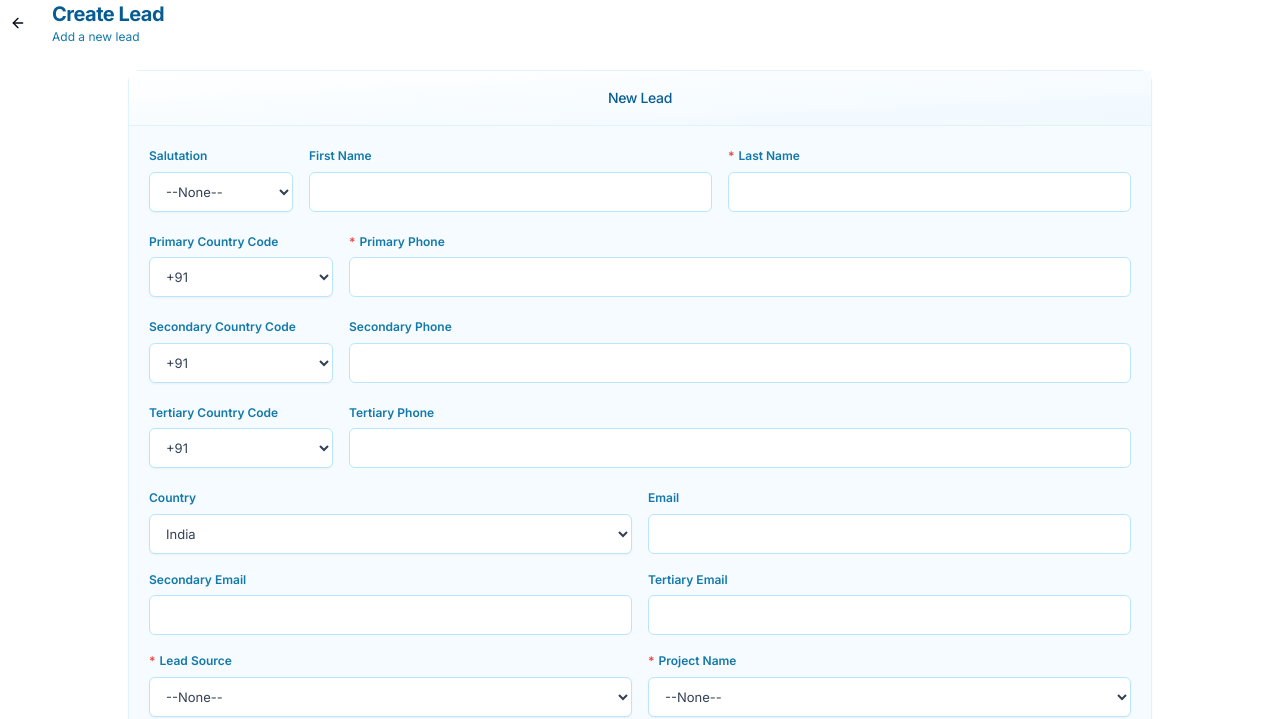
Test: Create Lead duplicate handling › does not choose arbitrarily when duplicate matches are ambiguous
Expected: the field labelled "*Primary Phone" is shown, x1=349 y1=257 x2=1131 y2=297
Step 1. Type "Customer" into the field labelled "*Last Name" → (930, 192), box x1=728 y1=172 x2=1131 y2=212
Step 2. Type "9876543210" into the field labelled "*Primary Phone" → (740, 277), box x1=349 y1=257 x2=1131 y2=297
Step 3. Select "Website" in the dropdown labelled "*Lead Source" → (390, 696), box x1=149 y1=676 x2=632 y2=716
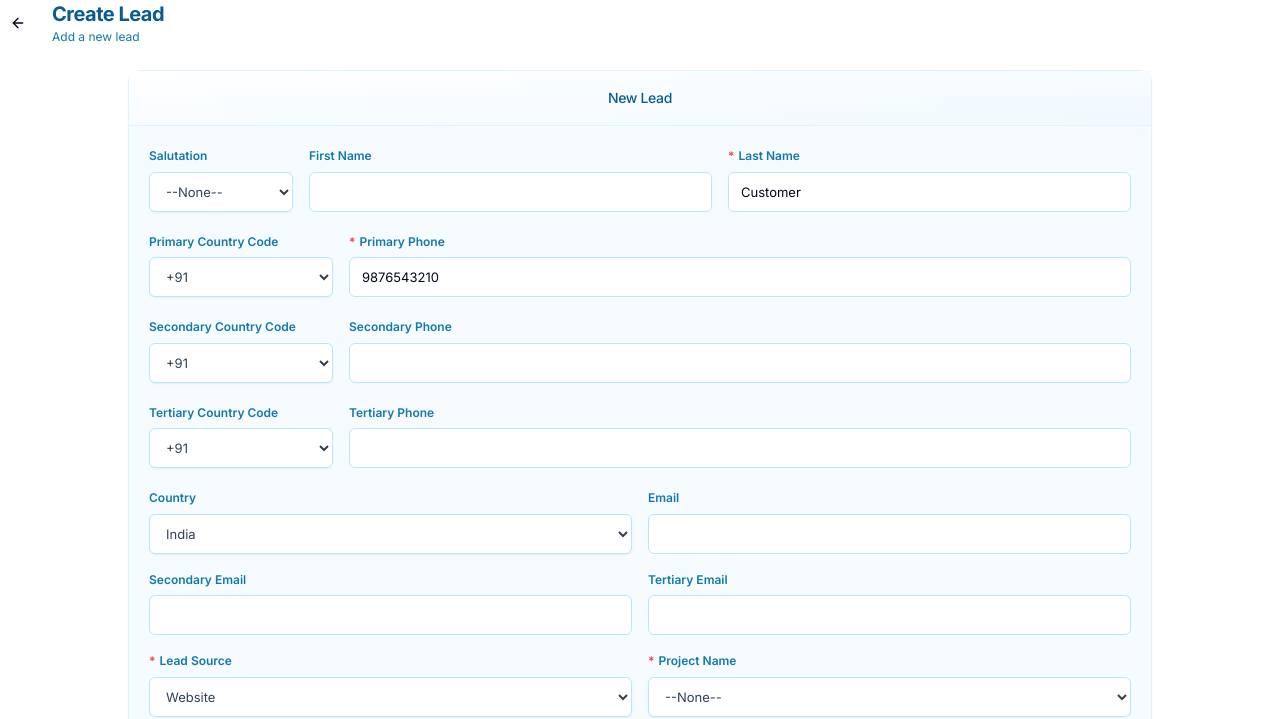
Step 4. Select "DCT Heights" in the dropdown labelled "*Project Name" → (890, 696), box x1=648 y1=676 x2=1131 y2=716
(page scrolled)
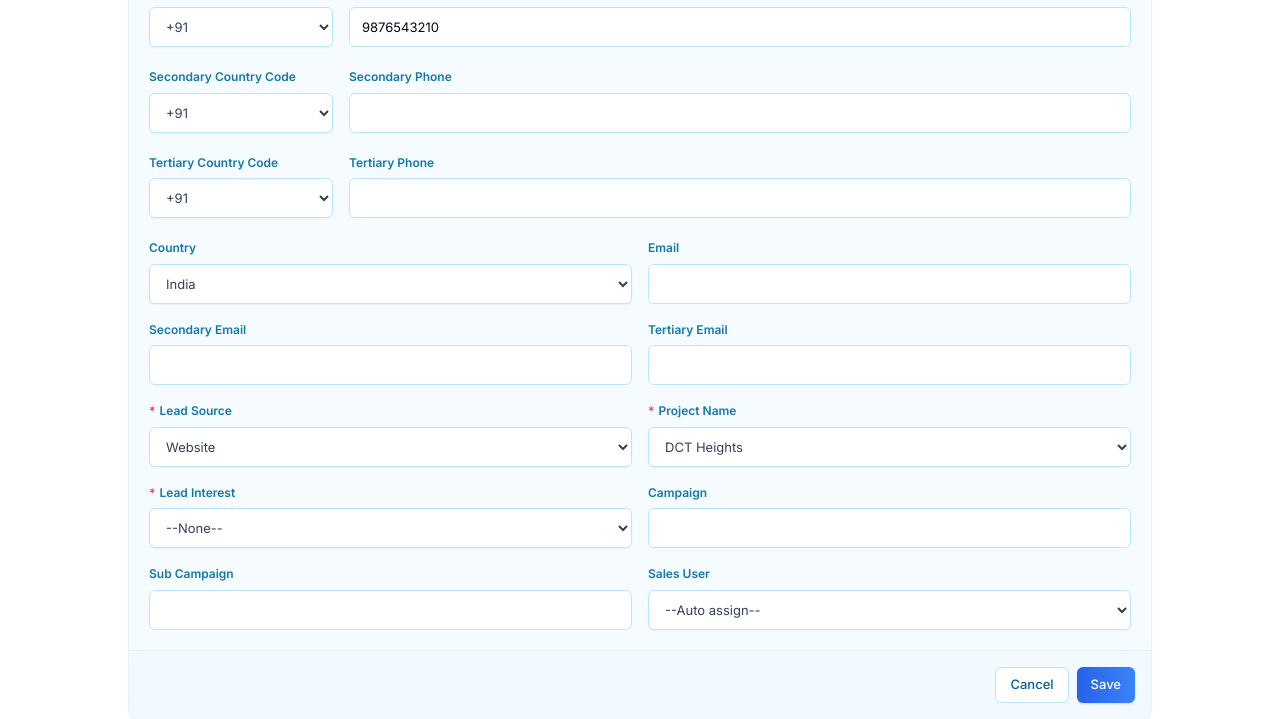
Step 5. Select "Prospect" in the dropdown labelled "*Lead Interest" → (390, 528), box x1=149 y1=508 x2=632 y2=548
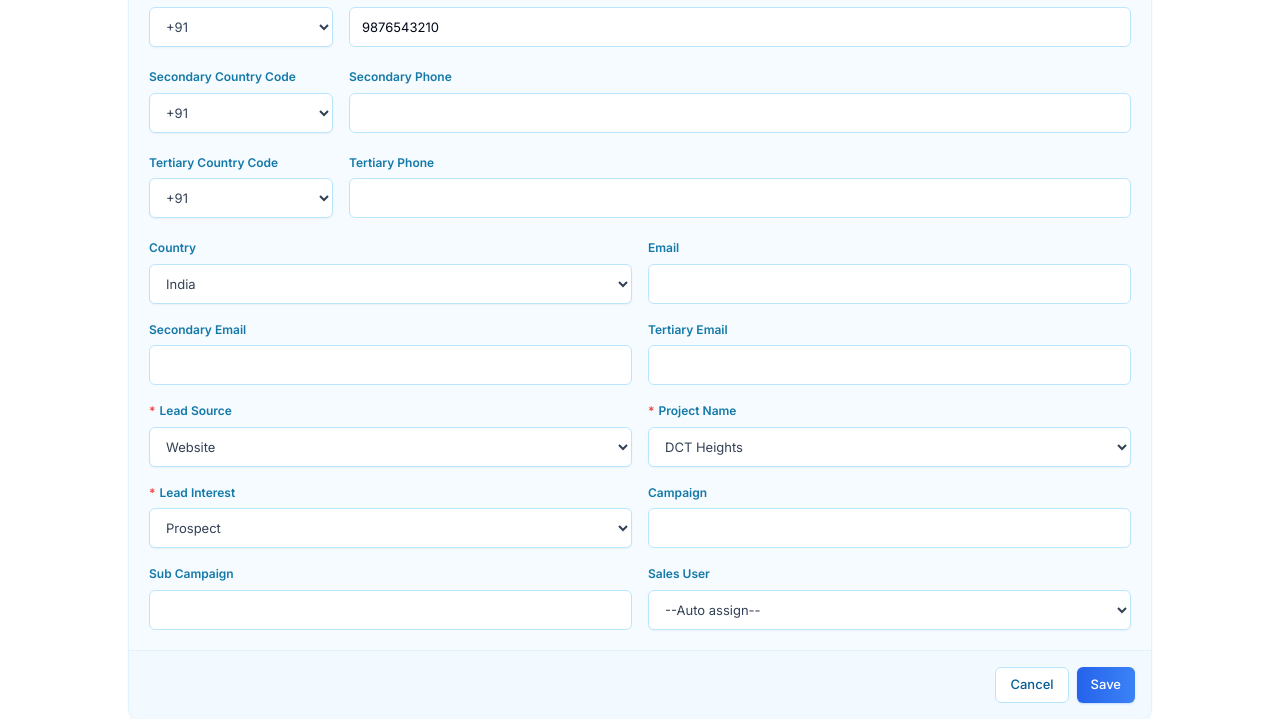
Step 6. Type "Website" into the field labelled "Campaign" → (890, 528), box x1=648 y1=508 x2=1131 y2=548
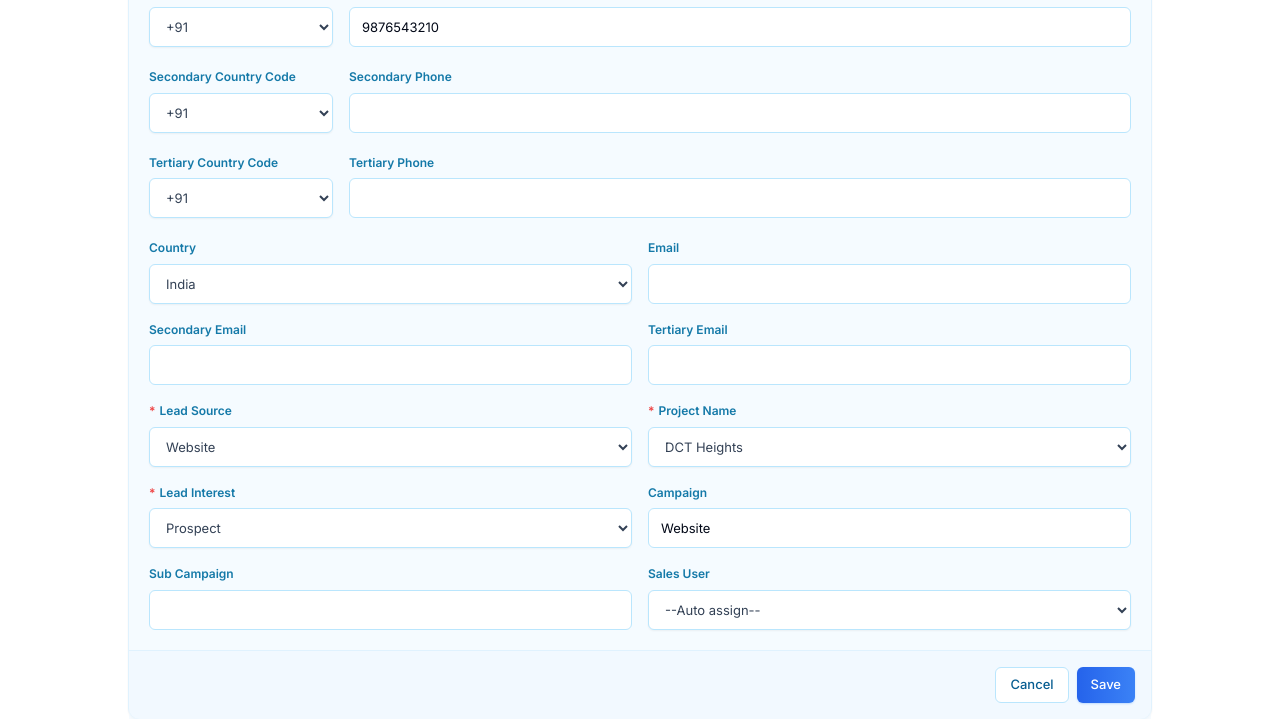
Step 7. Type "Landing page" into the field labelled "Sub Campaign" → (390, 610), box x1=149 y1=590 x2=632 y2=630
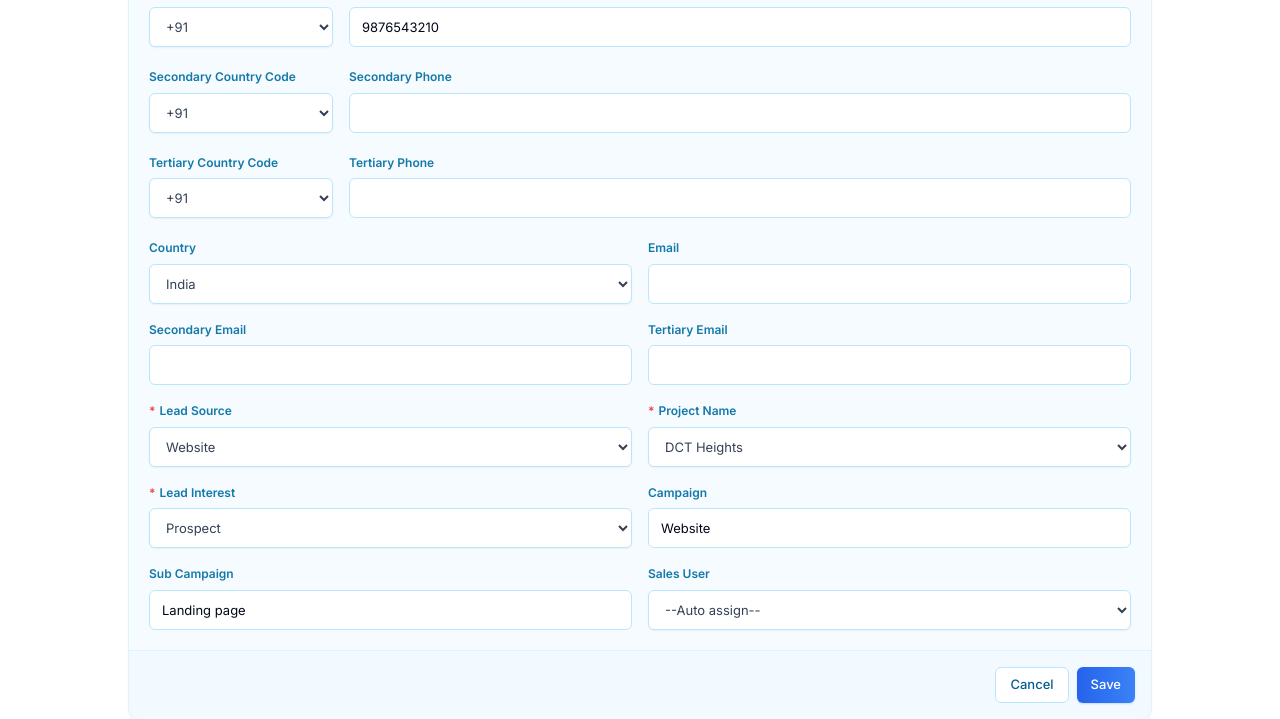
Step 8. Click the button "Save" → (1106, 684), box x1=1076 y1=666 x2=1135 y2=702
(page scrolled)
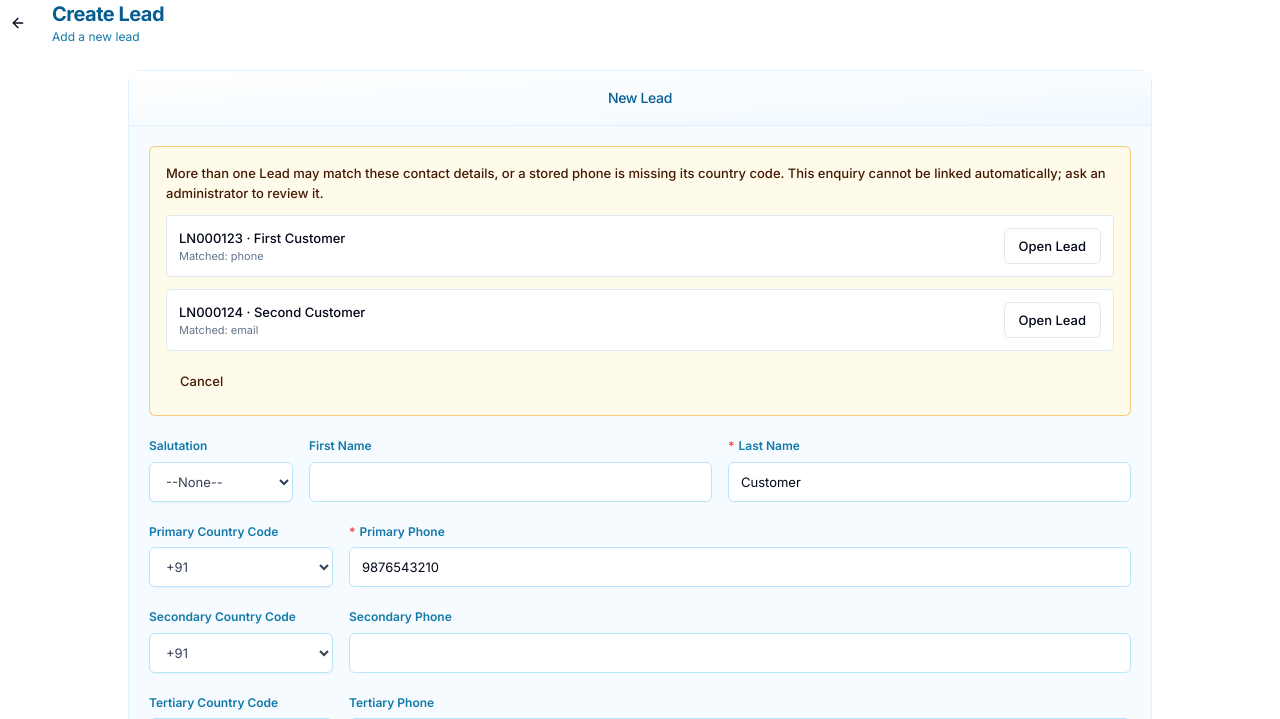
Expected: the text "More than one Lead may match" is shown, x1=166 y1=165 x2=1106 y2=201
